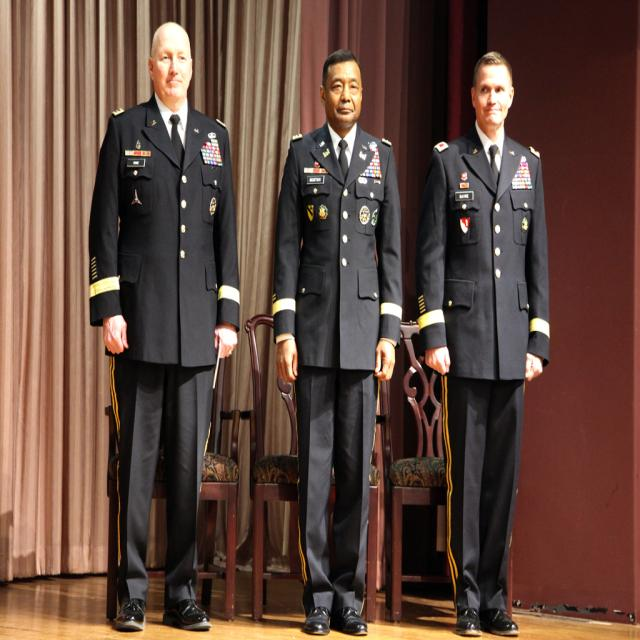no_helmet: (454, 120, 529, 144), (138, 103, 213, 126), (305, 122, 380, 144)
